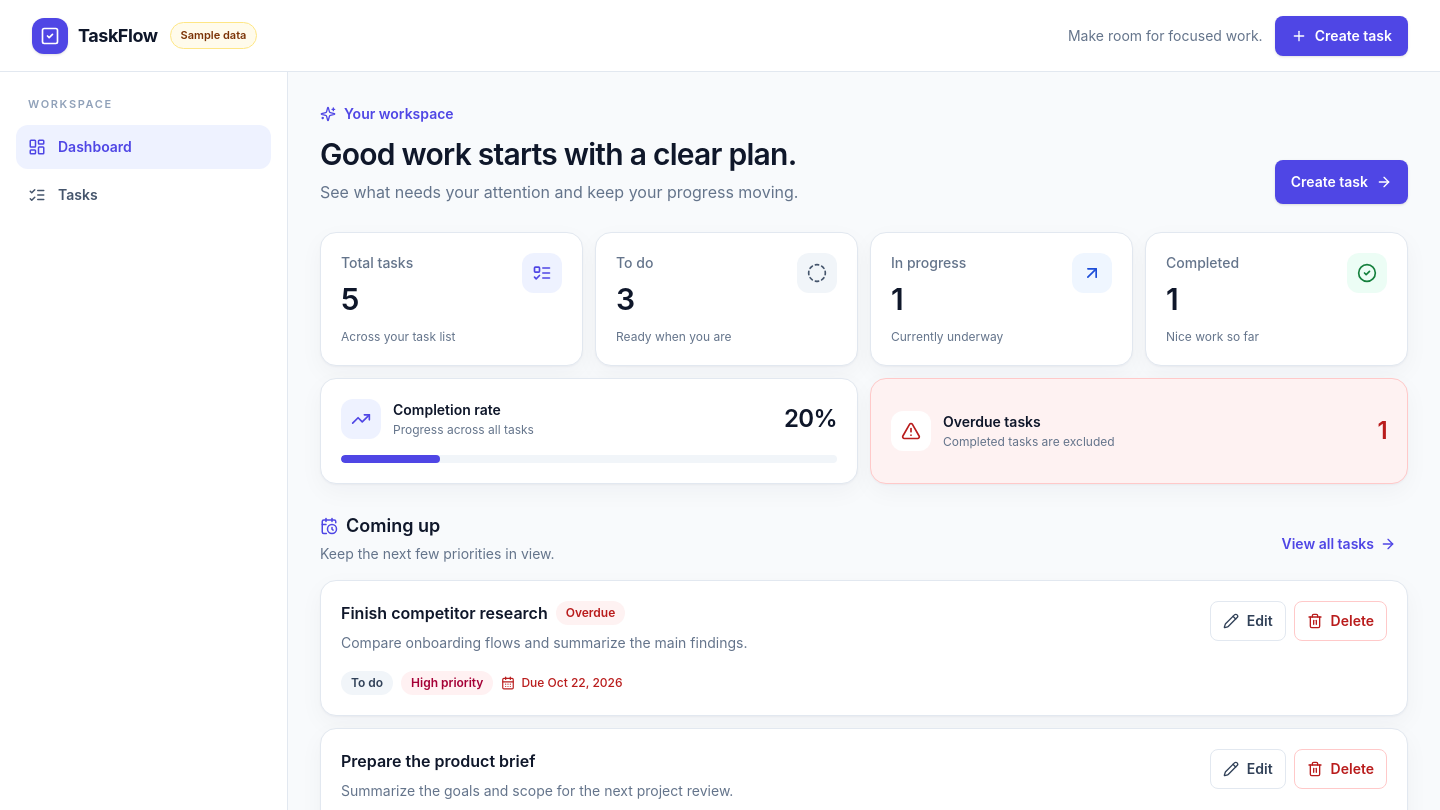
TaskFlow application › edits a task and refreshes its status in the list
Expected: the heading "Good work starts with a clear plan." is shown, [320,136,798,172]
Click the link "Tasks" at (63, 194), box [28,186,98,204]
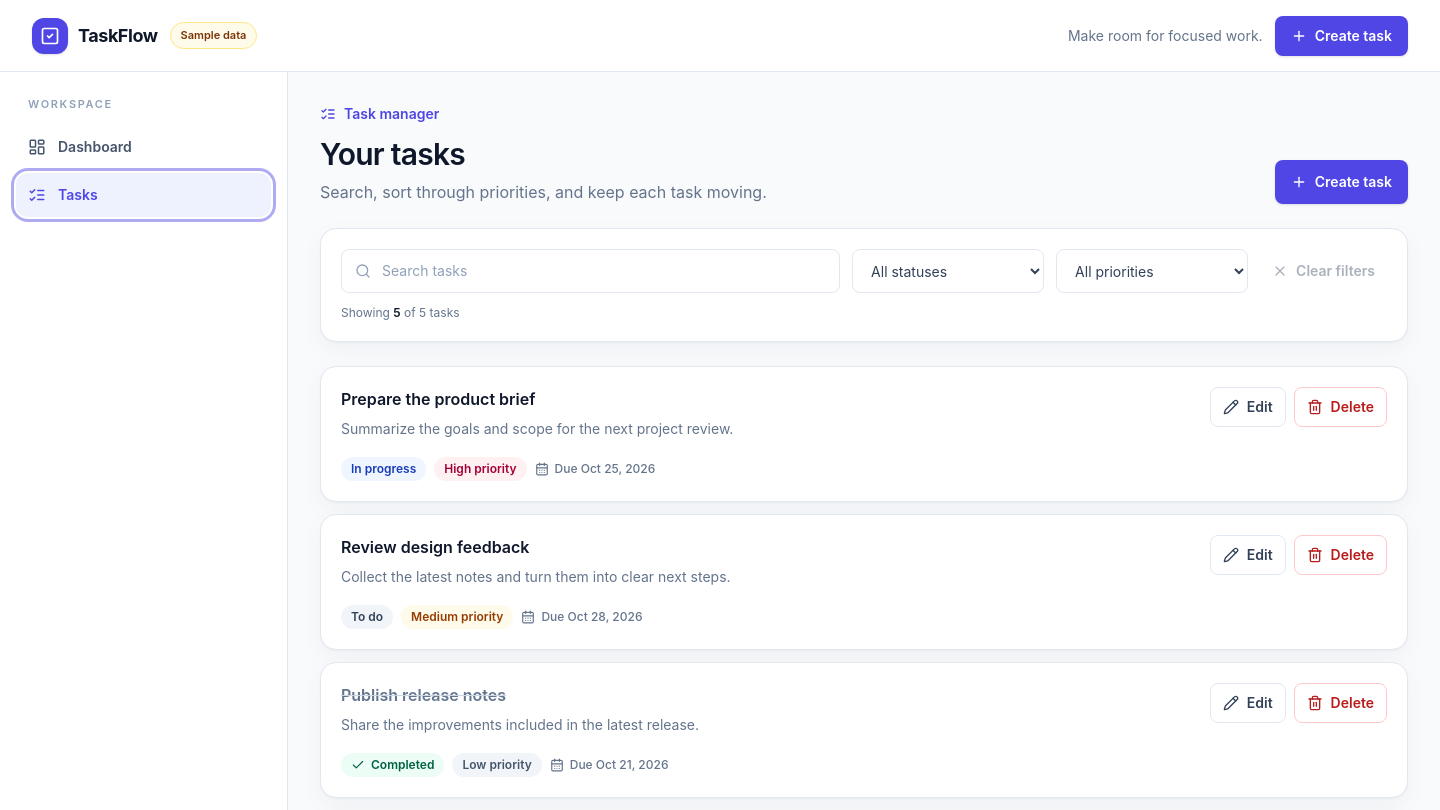
Click the button with aria-label "Edit Prepare the product brief" at (1248, 407), box [1210,387,1286,427]
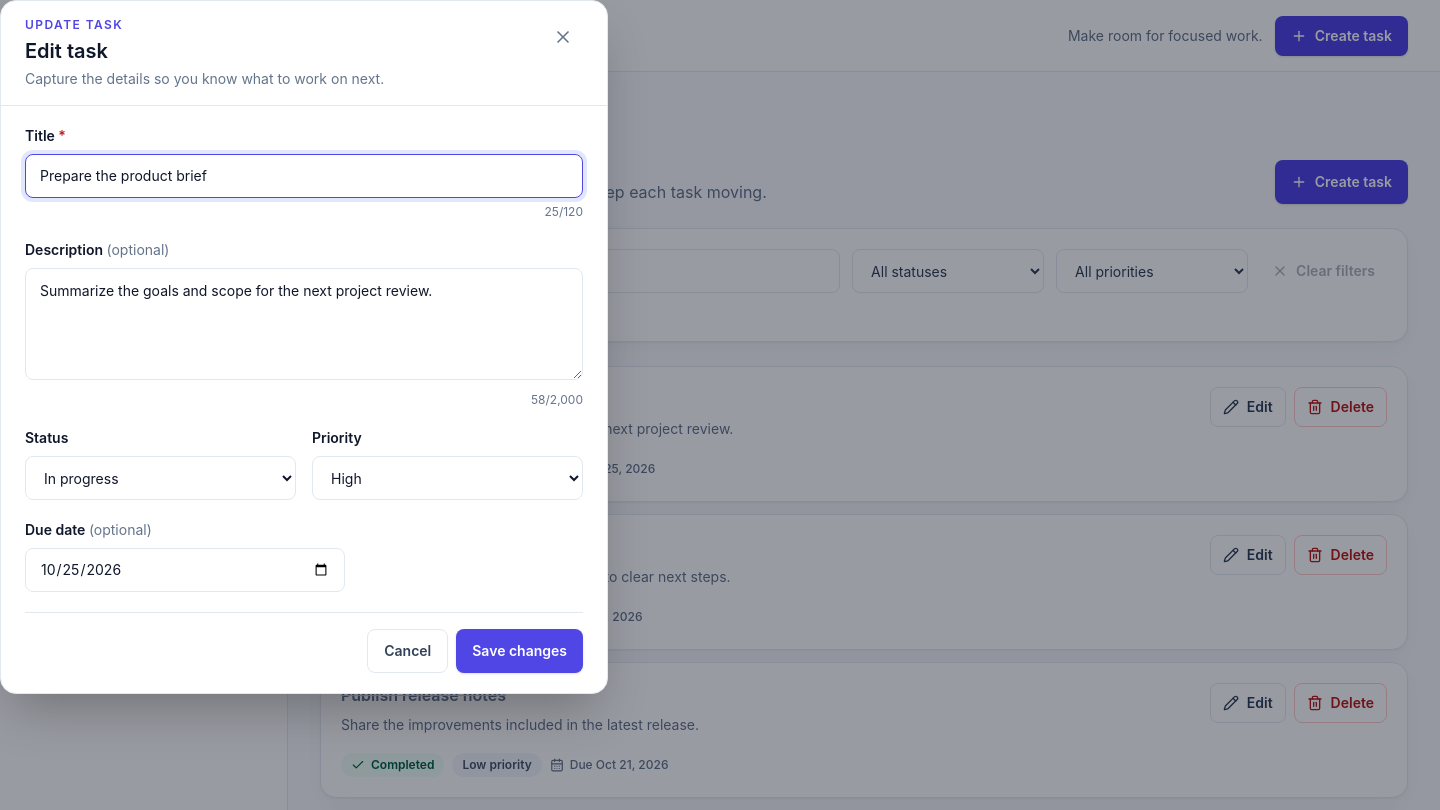
Replace the text in the field labelled "Title *" with "Prepare the revised product brief" at (304, 176), box [25,154,583,198]
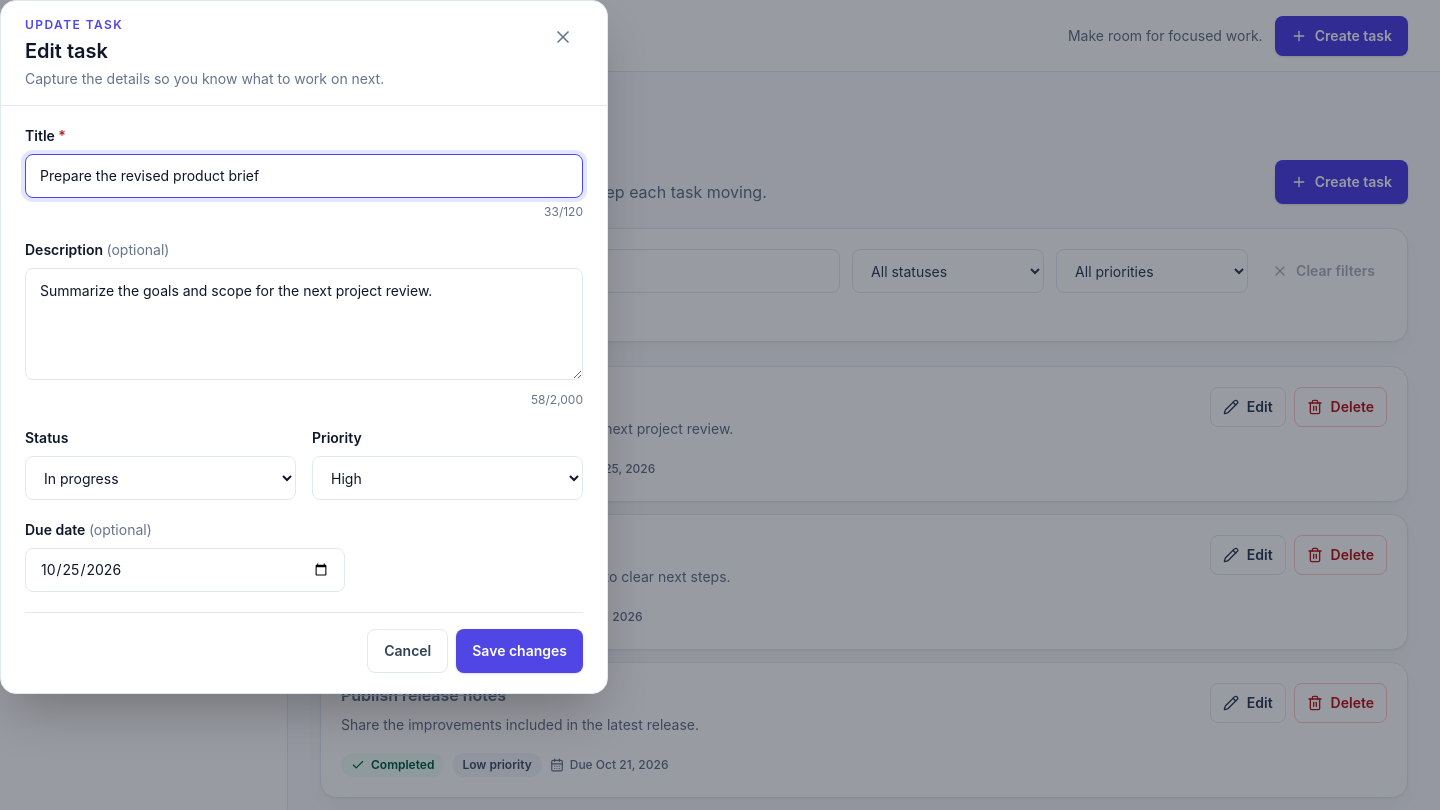
Select "Completed" in the dropdown labelled "Status" at (160, 478), box [25,456,296,500]
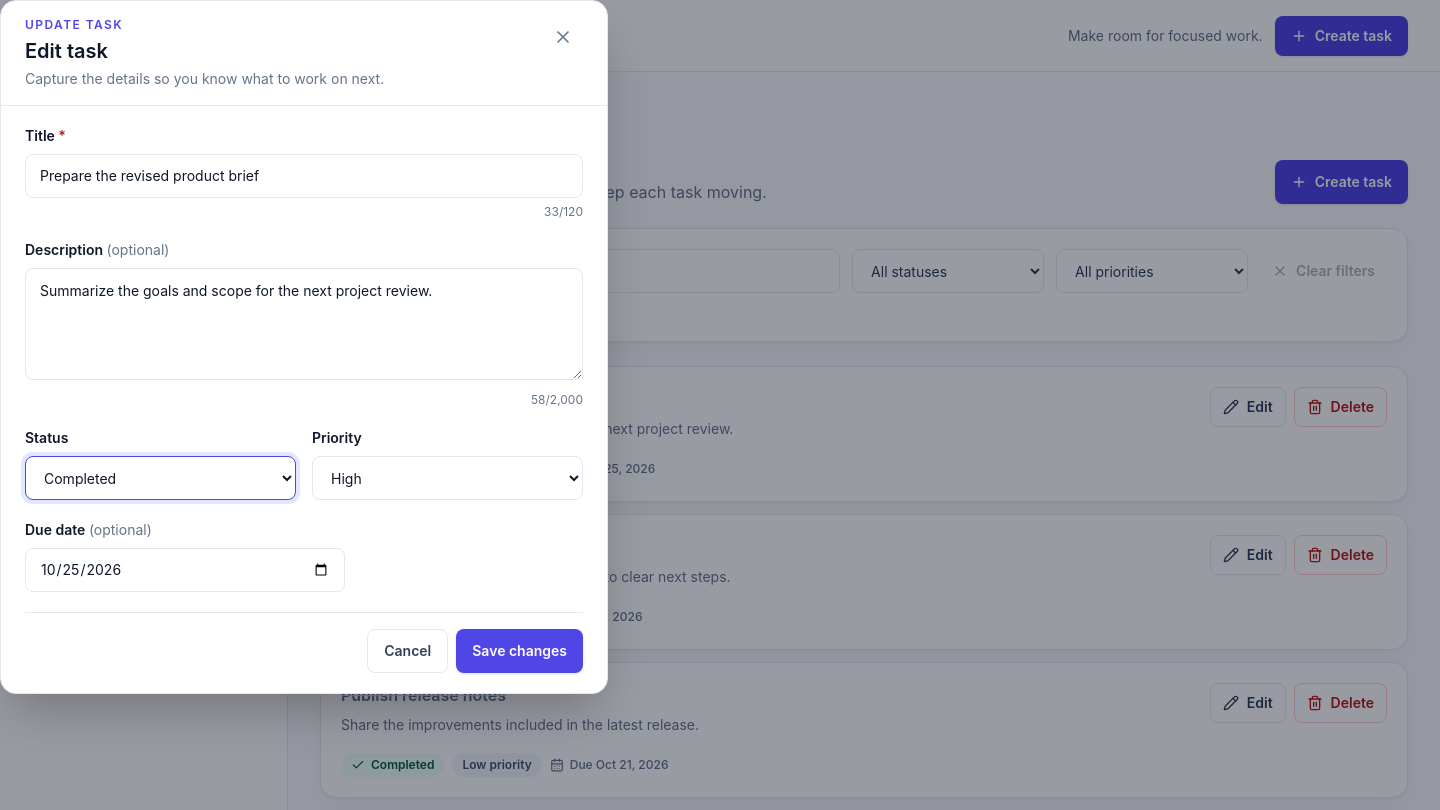
Click the button "Save changes" at (520, 651), box [456,629,583,673]
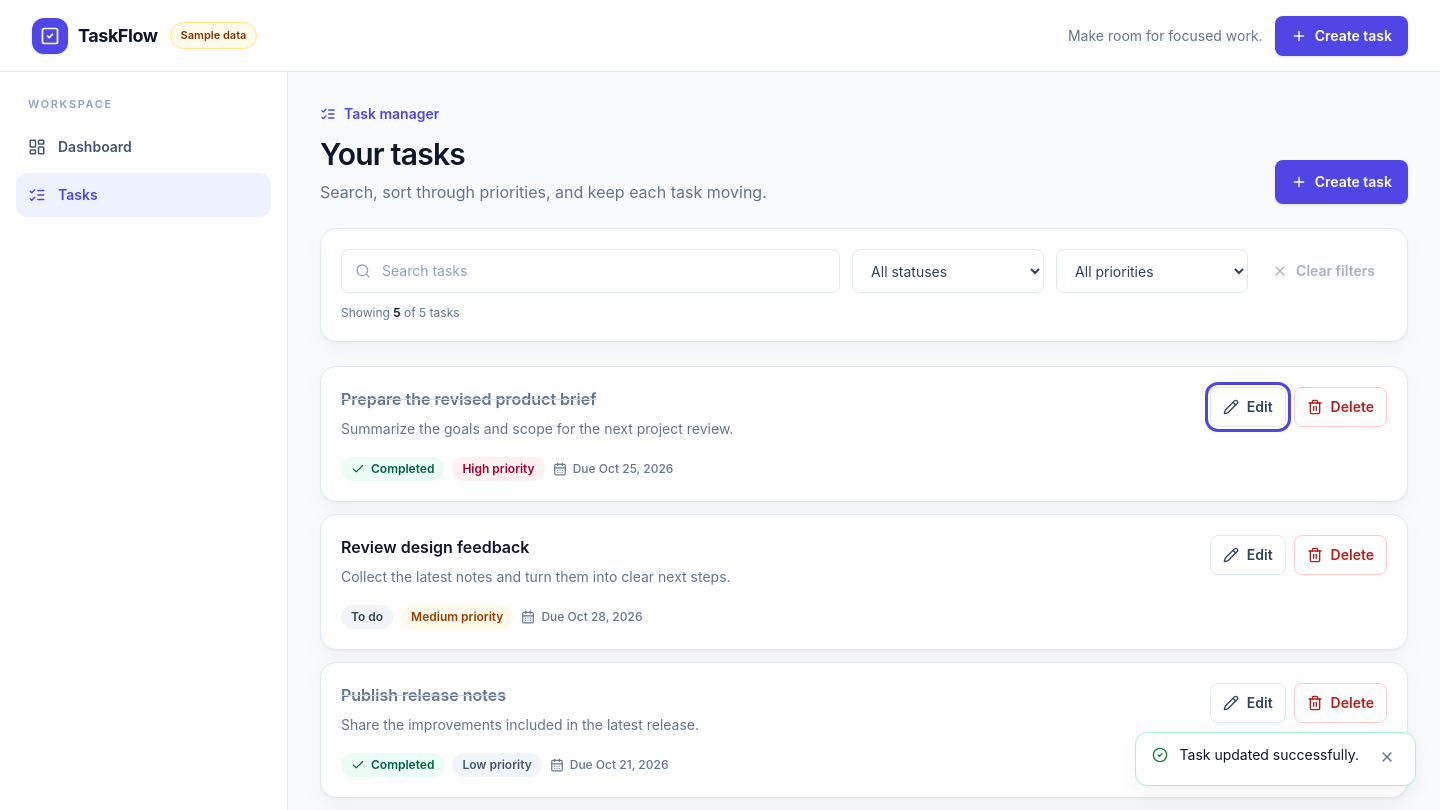
Expected: the heading "Prepare the revised product brief" is shown, [341,387,596,411]
Expected: the text "Prepare the revised product brief" shows "Completed", [371,461,434,476]
Expected: the text "Task updated successfully." is shown, [1180,745,1359,765]
